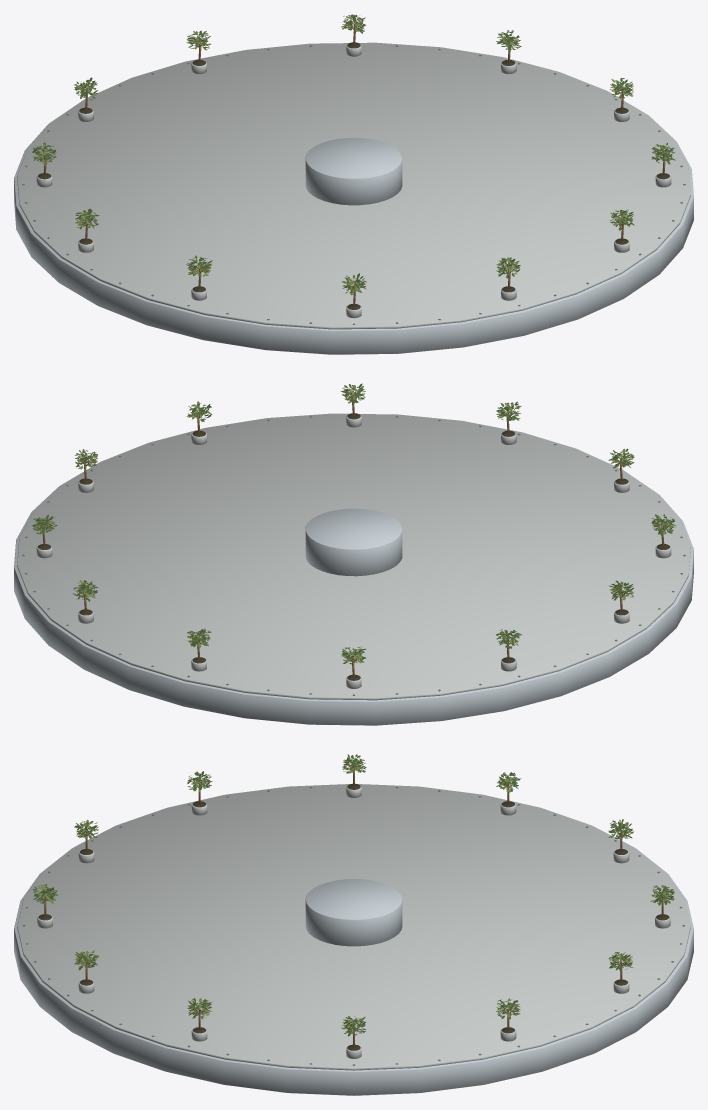
The model's file is stage-realistic-v1.glb.
3 views of the same model, one above another, from view 1: azimuth 30°, elevation 25°; view 2: azimuth 150°, elevation 25°; view 3: azimuth 270°, elevation 25° (orthographic).
Parts seen in each view (by area): view 1: Pavilion_stage_Web; view 2: Pavilion_stage_Web; view 3: Pavilion_stage_Web.
Part boxes in pixels (box(x1,y1,x2,y2)): Pavilion_stage_Web: box(14, 14, 693, 354); Pavilion_stage_Web: box(14, 383, 693, 725); Pavilion_stage_Web: box(14, 754, 693, 1095).
Bounding box in the file's own units: 8.7 × 0.9111 × 8.7.
